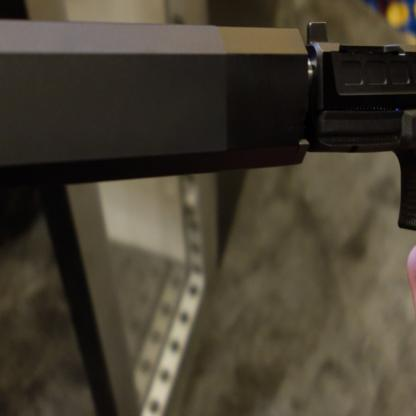gun: (308, 0, 415, 415)
